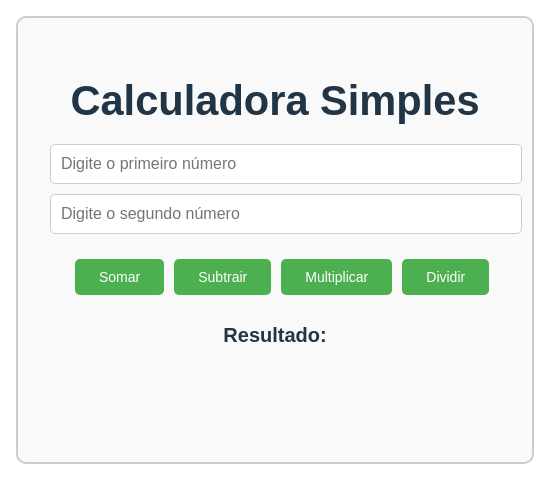
Test: Calculadora Simples › Realiza uma soma corretamente
The image size is (551, 481).
simula o usuário digitando algo
Step 1. Type "5" into the number field with placeholder "Digite o primeiro número" → (286, 164), box [50, 144, 522, 184]
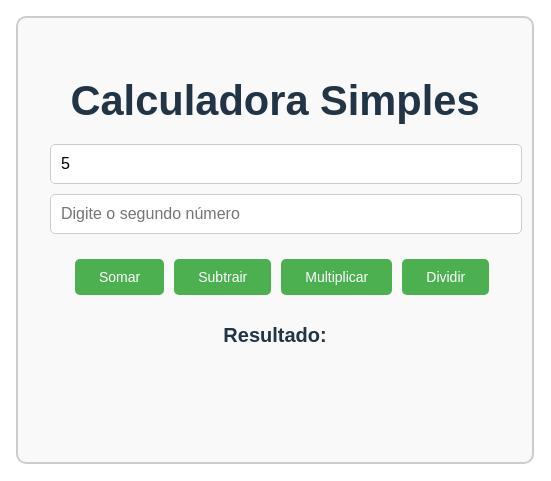
Step 2. Type "10" into the number field with placeholder "Digite o segundo número" → (286, 214), box [50, 194, 522, 234]
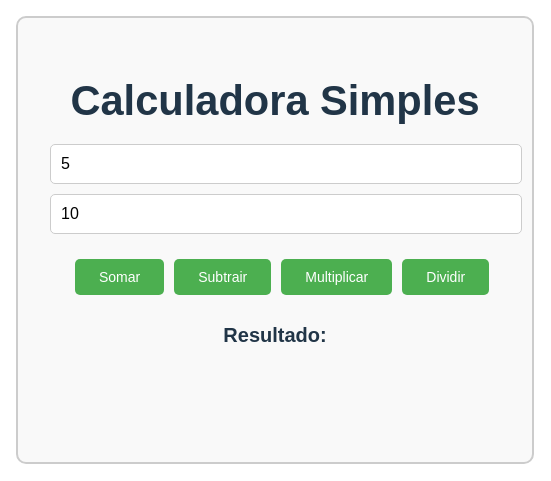
simula o clique no botão soma
Step 3. Click the button "Somar" → (120, 277), box [75, 259, 164, 295]
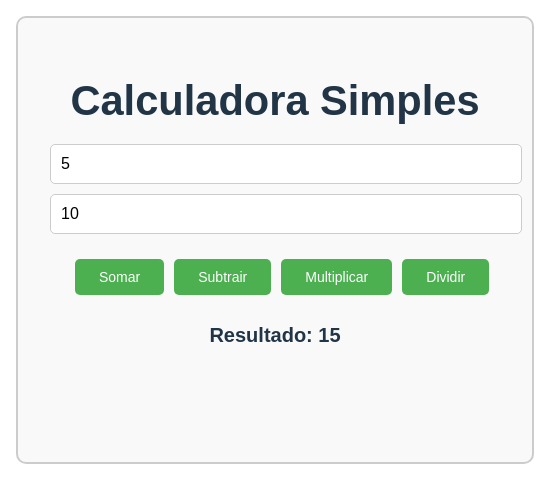
Expected: the text "Resultado: 15" is shown, [209, 324, 341, 346]
